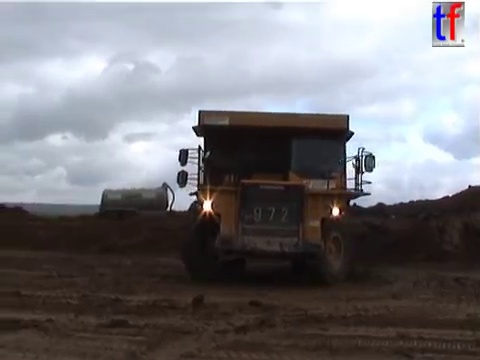truck: (174, 106, 378, 288), (94, 180, 249, 227)
